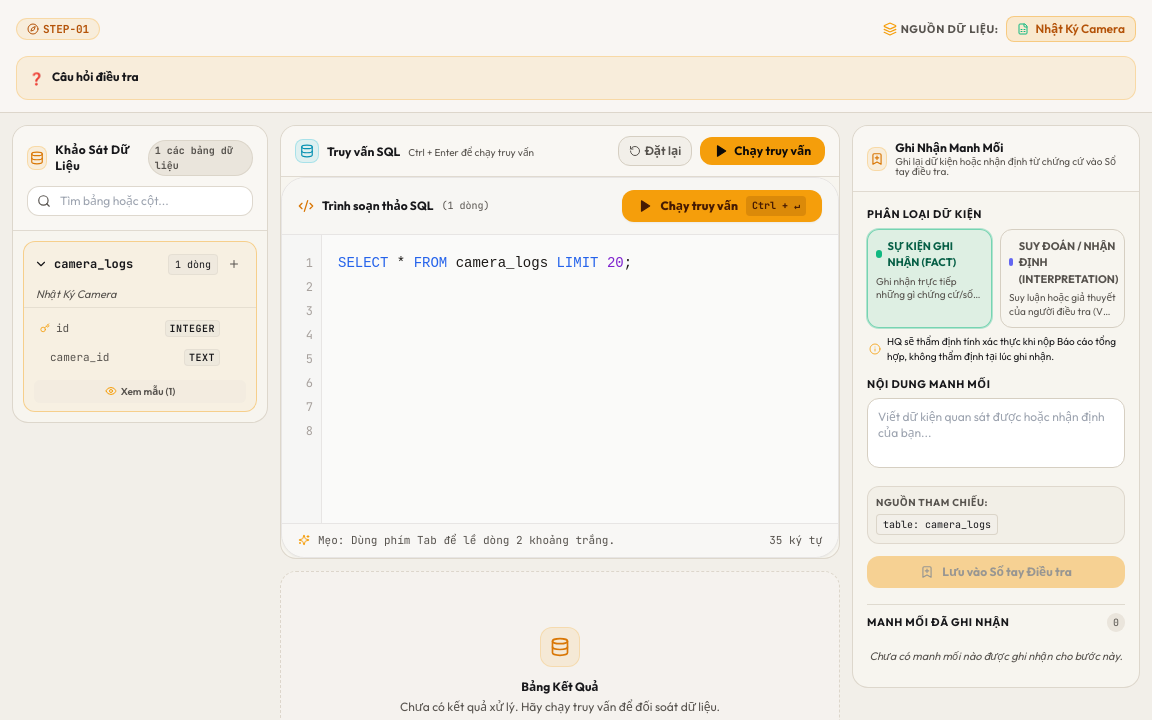
Test case: DataProcessingWorkspace Component Tests › 15. hidden dataset cannot be queried manually even when the player knows its table name
Expected: the button "Chạy truy vấn" is enabled, [700,137,825,165]
Player attempts to manually bypass step restriction by typing a query for hidden table
Step 1. Replace the text in the text box named "Khung soạn thảo câu lệnh SQL" with "SELECT * FROM transactions;" → (580, 379), box [322,235,838,523]
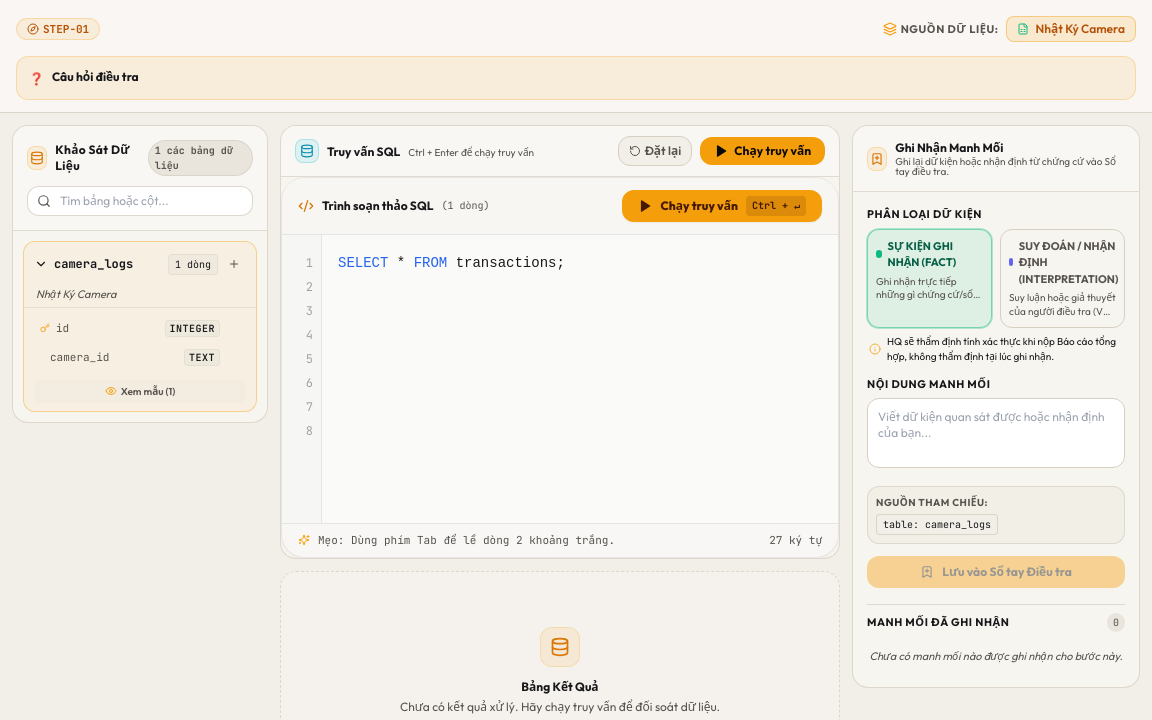
Step 2. Click the button "Chạy truy vấn" → (763, 151), box [700,137,825,165]
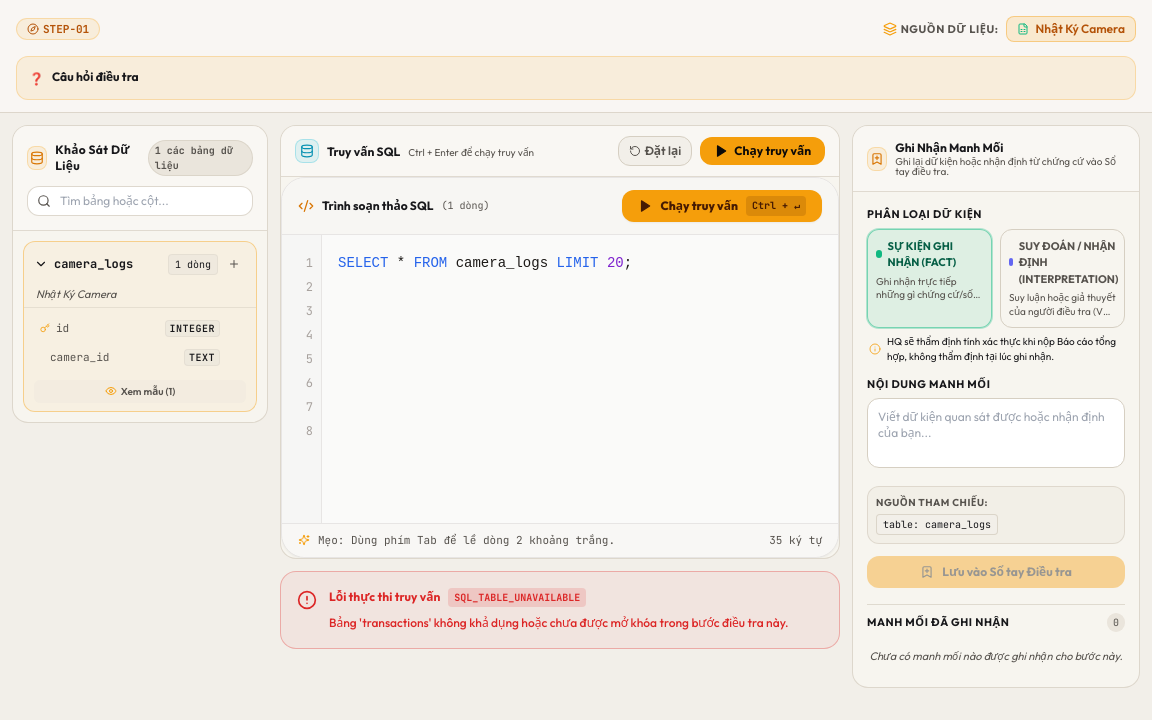
Expected: the text "Lỗi thực thi truy vấn" is shown, [329,589,440,605]
Expected: the text "transactions" is shown, [329,614,788,630]
